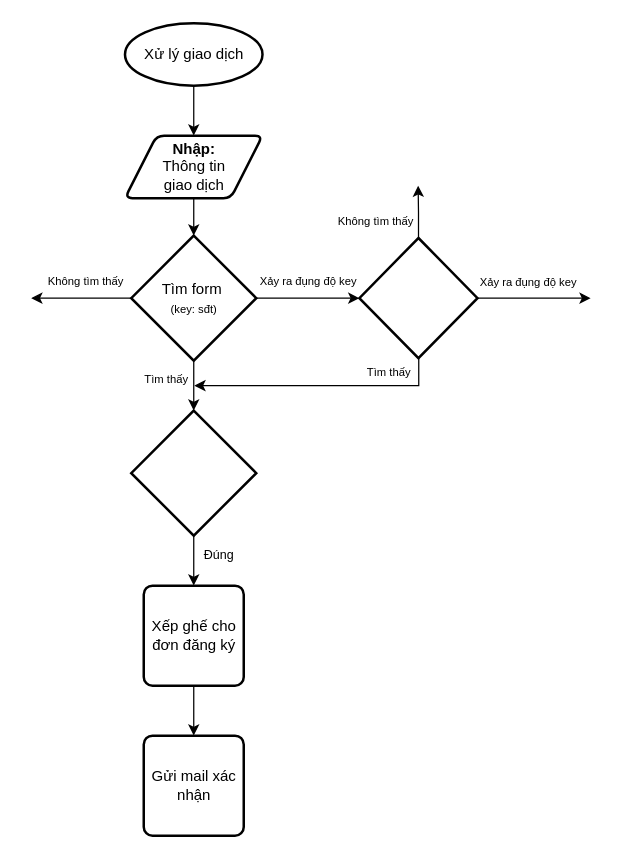
This 623x858 diagram has some shape labels left out. The centre of each missing label's shape, as x and y in pixels:
"Tiền cần nhận == Tiền nhận?" goes at point (193, 472).
"Tìm form (key: sđt_std_prm)" goes at point (418, 297).
